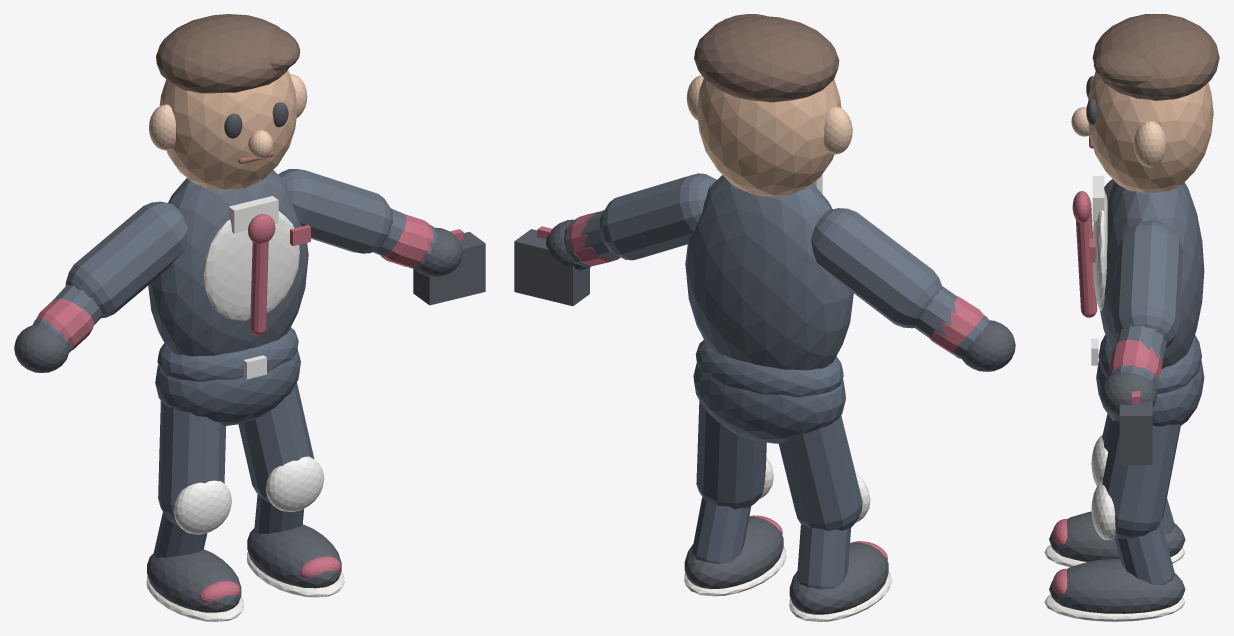
File: 02_office_guy.glb
3 views of the same model, side by side, from view 1: azimuth 30°, elevation 25°; view 2: azimuth 150°, elevation 25°; view 3: azimuth 270°, elevation 25° (orthographic). The views are drawn at different scales.
Parts seen in each view (by area): view 1: Torso, Head, Hair, Left upper arm, Right upper arm, Chest panel, Shorts or hip section, Left thigh, Right thigh, Left shoe, Right shoe, Waist (+18 smaller); view 2: Torso, Head, Hair, Left upper arm, Left thigh, Right upper arm, Shorts or hip section, Right thigh, Waist, Left shoe, Briefcase, Right shoe (+11 smaller); view 3: Head, Torso, Hair, Right upper arm, Right thigh, Right shoe, Left shoe, Right shin, Briefcase, Shorts or hip section, Waist, Hair side part (+17 smaller).
Boxes of the visible parts, box(x1,y1,x2,y2) form: Torso: box(148, 170, 308, 356); Head: box(159, 70, 297, 190); Hair: box(156, 14, 288, 93); Left upper arm: box(65, 201, 188, 318); Right upper arm: box(278, 169, 393, 253); Chest panel: box(203, 211, 299, 320); Shorts or hip section: box(155, 349, 300, 425); Left thigh: box(158, 400, 225, 525); Right thigh: box(238, 382, 314, 503); Left shoe: box(147, 549, 241, 612); Right shoe: box(247, 524, 341, 588); Waist: box(157, 327, 298, 381); Torso: box(685, 175, 853, 370); Head: box(697, 78, 841, 196); Hair: box(694, 16, 839, 102); Left upper arm: box(811, 208, 942, 328); Left thigh: box(778, 415, 862, 530); Right upper arm: box(599, 173, 716, 260); Shorts or hip section: box(693, 362, 845, 443); Right thigh: box(696, 400, 766, 509); Waist: box(695, 340, 843, 396); Left shoe: box(789, 542, 888, 614); Briefcase: box(514, 229, 589, 306); Right shoe: box(684, 516, 783, 588); Head: box(1088, 72, 1213, 192); Torso: box(1100, 182, 1204, 369); Hair: box(1092, 14, 1219, 100); Right upper arm: box(1114, 221, 1182, 347); Right thigh: box(1102, 420, 1180, 539); Right shoe: box(1049, 558, 1185, 613); Left shoe: box(1049, 511, 1185, 561); Right shin: box(1114, 522, 1174, 584); Briefcase: box(1119, 400, 1152, 464); Shorts or hip section: box(1096, 360, 1204, 426); Waist: box(1098, 335, 1201, 394); Hair side part: box(1093, 49, 1154, 86).
Bounding box in the file's own units: 2.31 × 2.65 × 0.745.
